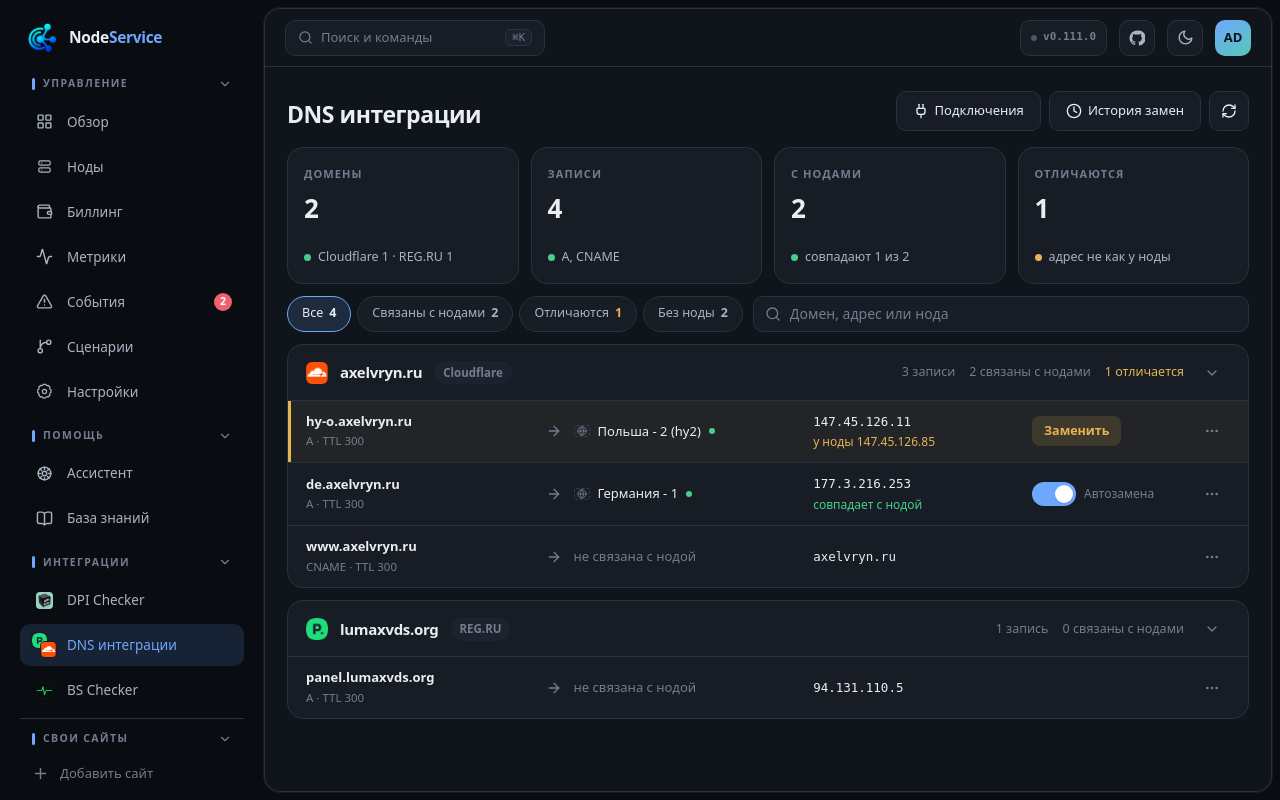
DNS: свой адрес вместо адреса ноды (вариант B) › CNAME и другие записи не-адреса — только просмотр: без выбора ноды и своего адреса, плитки про ноду нет
This screenshot has width=1280, height=800.
Click the button with aria-label "Запись www.axelvryn.ru". click: [361, 546]
box: top-left (288, 525), bottom-right (1248, 587)
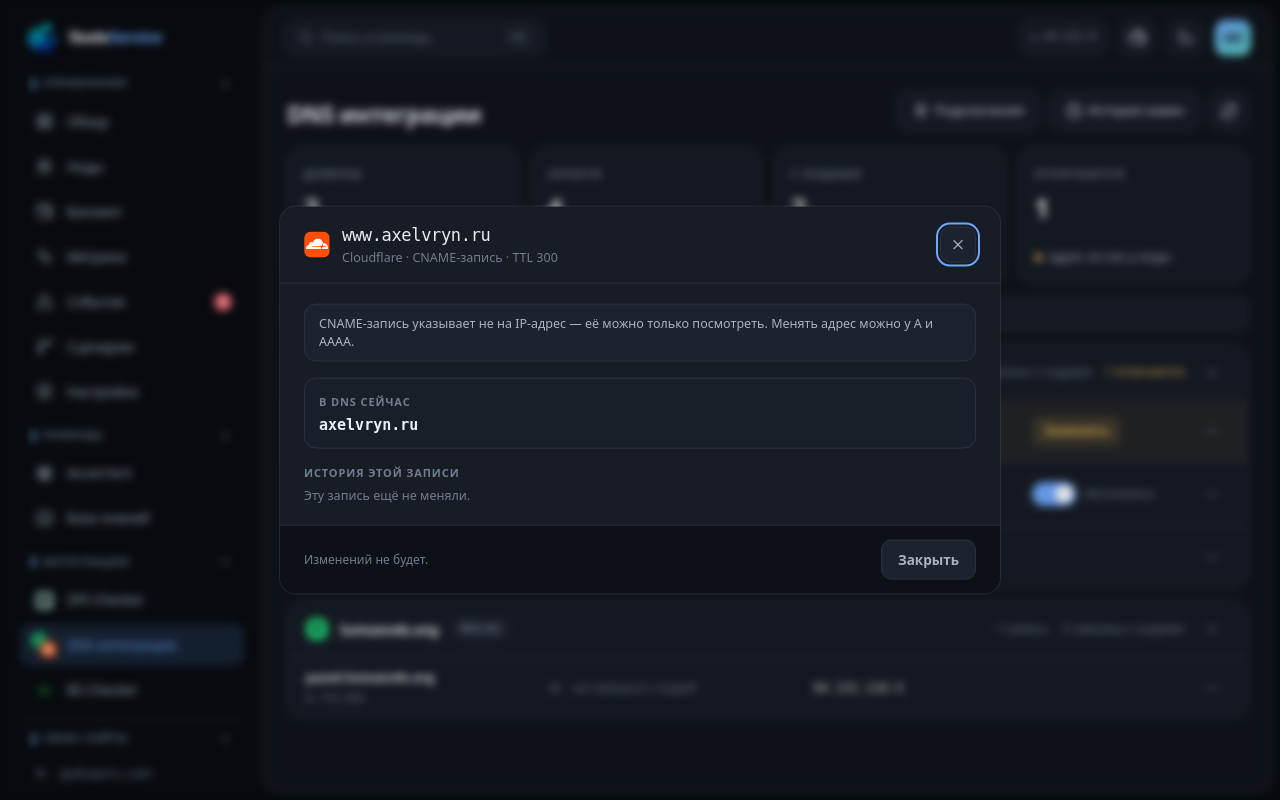
Now the dialog shows "CNAME-запись указывает не на IP-адрес — её можно только посмотреть", box top-left (280, 207), bottom-right (1000, 593)
